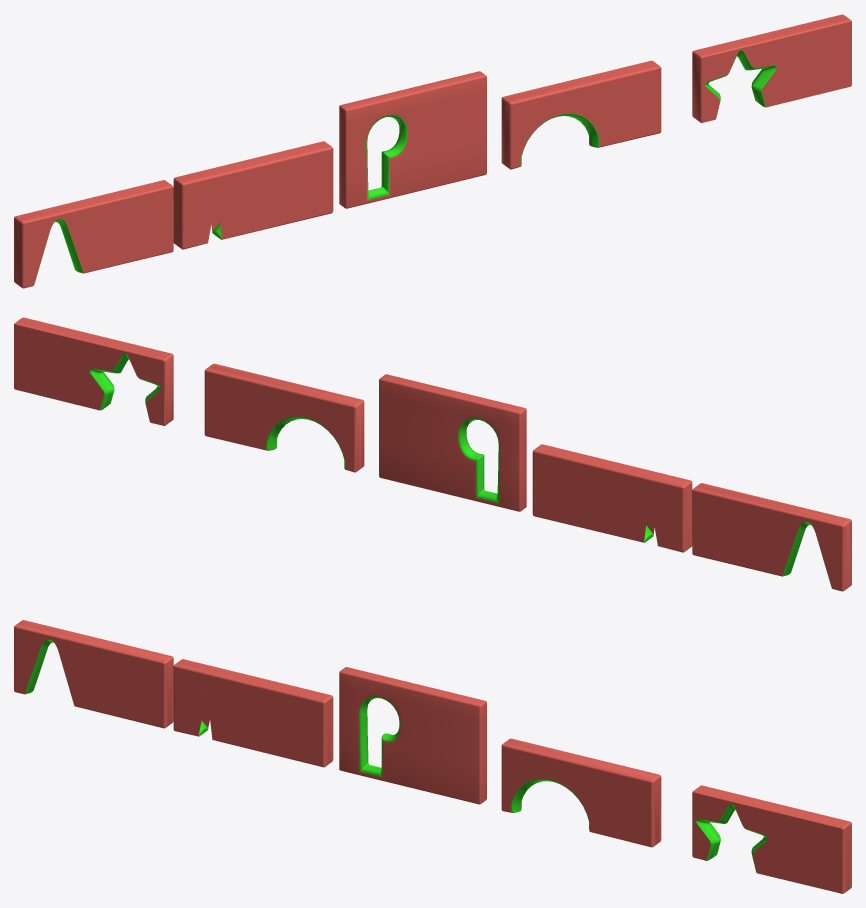
File: obstacles2ShortenedWithOutline.fbx
The picture shows the model from 3 angles, top to bottom: view 1: azimuth 30°, elevation 25°; view 2: azimuth 150°, elevation 25°; view 3: azimuth 330°, elevation 25°; orthographic projection.
Visible parts, largest first — view 1: oobst2.001, oobst1.001, oobst6.002, oobst5.002, oobst4.001; view 2: oobst2.001, oobst1.001, oobst6.002, oobst5.002, oobst4.001; view 3: oobst2.001, oobst1.001, oobst6.002, oobst5.002, oobst4.001.
Part boxes in pixels (box(x1,y1,x2,y2)): oobst2.001: box(339, 71, 486, 208); oobst1.001: box(173, 141, 333, 249); oobst6.002: box(14, 180, 173, 288); oobst5.002: box(692, 14, 851, 122); oobst4.001: box(501, 60, 661, 169); oobst2.001: box(379, 374, 526, 511); oobst1.001: box(532, 444, 692, 552); oobst6.002: box(692, 483, 851, 591); oobst5.002: box(14, 317, 173, 425); oobst4.001: box(204, 363, 364, 472); oobst2.001: box(339, 667, 486, 804); oobst1.001: box(173, 659, 333, 767); oobst6.002: box(14, 620, 173, 728); oobst5.002: box(692, 785, 851, 893); oobst4.001: box(501, 738, 661, 847).
Size of the model in its own units: 5503 by 630 by 109.
